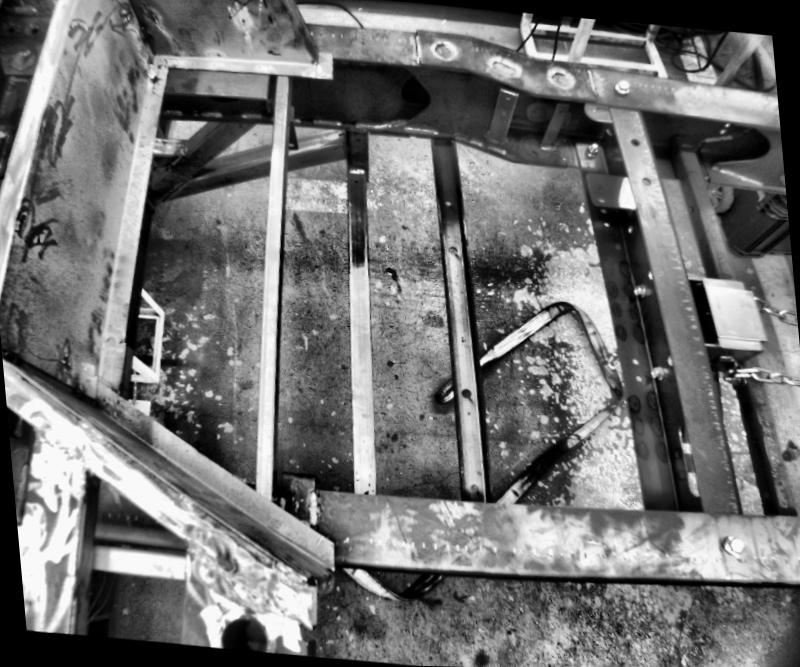bolt: (712, 531, 751, 558), (610, 74, 633, 96), (584, 141, 600, 159), (648, 366, 666, 382), (632, 284, 648, 298)
bracket: (274, 462, 332, 518), (481, 84, 522, 150), (530, 96, 572, 157), (582, 170, 640, 210), (280, 104, 306, 153)
hole: (220, 614, 268, 652), (458, 386, 474, 399), (468, 481, 481, 494), (630, 138, 642, 148), (630, 357, 643, 366), (624, 223, 634, 234), (640, 176, 652, 185), (442, 198, 452, 208), (634, 374, 644, 383), (446, 246, 457, 254), (601, 222, 610, 230), (352, 177, 360, 184), (287, 142, 295, 148), (598, 187, 604, 192), (600, 208, 606, 213), (337, 131, 343, 136), (354, 136, 359, 141)
